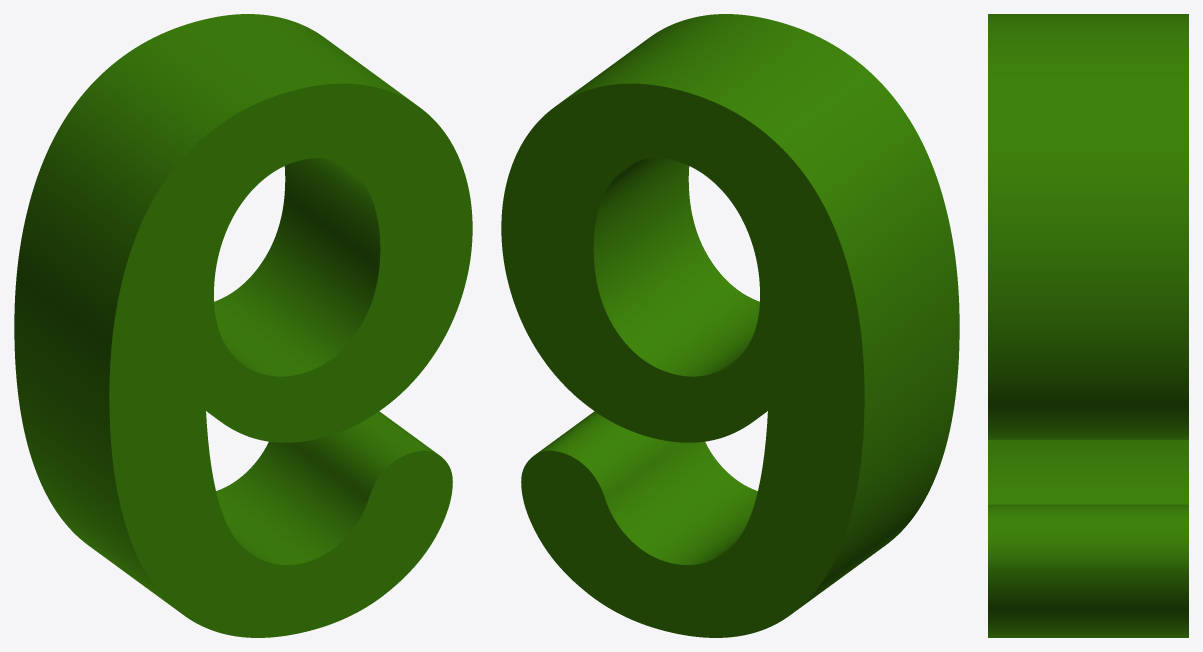
3 views of the same model, side by side, from view 1: azimuth 30°, elevation 25°; view 2: azimuth 150°, elevation 25°; view 3: azimuth 270°, elevation 25° (orthographic). The views are drawn at different scales.
Visible parts, largest first — view 1: テキスト; view 2: テキスト; view 3: テキスト.
Boxes of the visible parts, left/top/right/bottom form: テキスト: left=14, top=14, right=472, bottom=637; テキスト: left=501, top=14, right=959, bottom=637; テキスト: left=988, top=14, right=1188, bottom=637.
Bounding box in the file's own units: 0.4413 × 0.6321 × 0.2.
